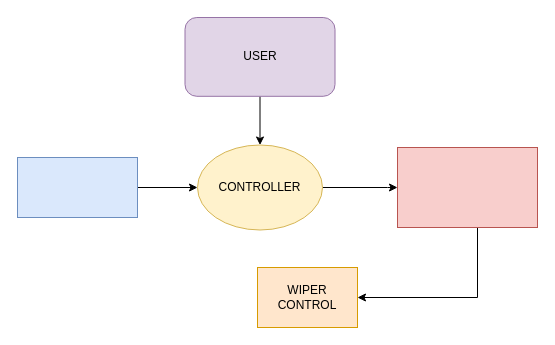
This 555x345 diagram has some shape labels left out. The centre of each missing label's shape, as x and y in pixels:
"ENGINE IGNITION" belongs at point (467, 187).
"POWER SUPPLY" belongs at point (77, 187).
